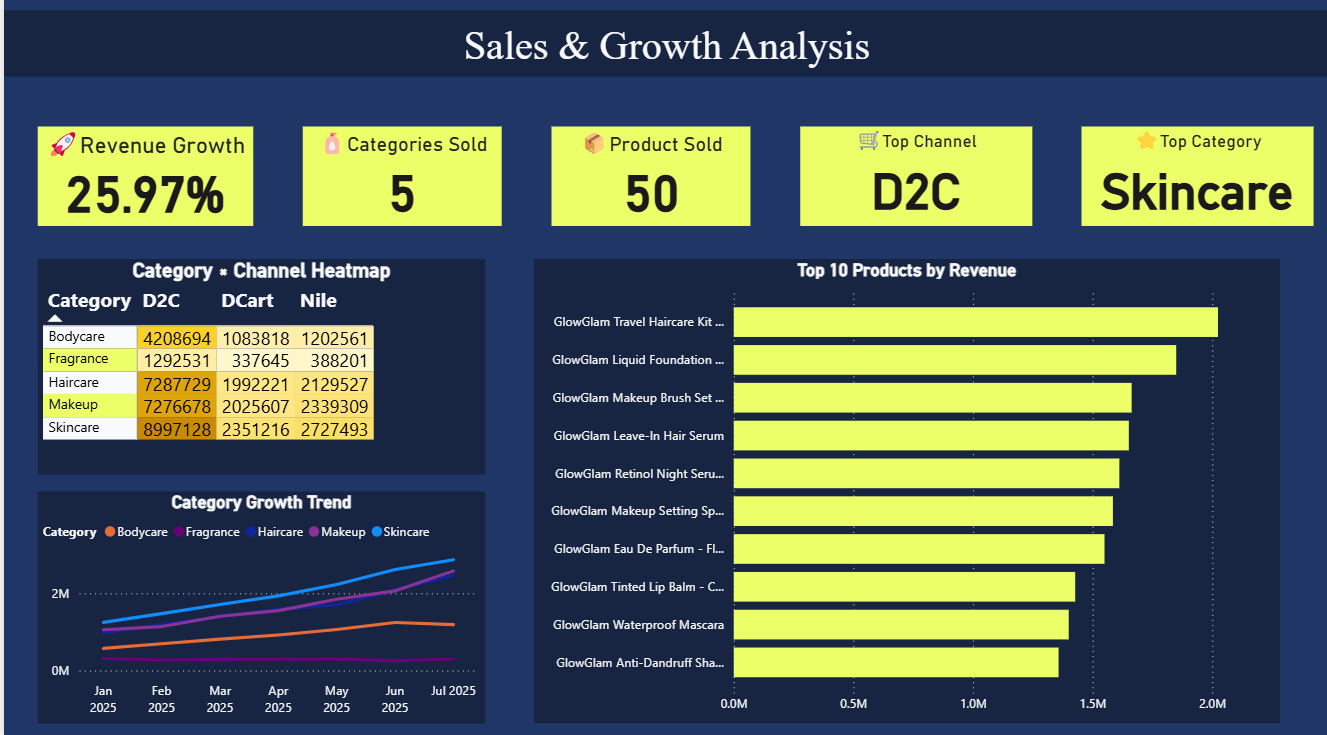

Layout of this report page (visuals, bound fields, positions):
{"tool":"powerbi","page":{"name":"Sales Growth Dashboard","canvas":[1280,720],"ordinal":1},"visuals":[{"type":"card","fields":{"Values":["KPI_Measures.Title 2"]},"box":[0,16,1280,64],"z":0},{"type":"card","title":"🧴Categories Sold","fields":{"Values":["KPI_Measures.Categories Sold"]},"box":[288,128,192,96],"z":1000},{"type":"card","title":"📦Product Sold","fields":{"Values":["KPI_Measures.Products Sold"]},"box":[528,128,192,96],"z":2000},{"type":"pivotTable","title":"Category × Channel Heatmap","fields":{"Rows":["Fact_All_Sales.Category"],"Columns":["Fact_All_Sales.Channel"],"Values":["Sum(Fact_All_Sales.Revenue)"]},"box":[32,256,432,208],"z":3000},{"type":"card","title":"🛒Top Channel","fields":{"Values":["KPI_Measures.Top Channel"]},"box":[768,128,224,96],"z":4000},{"type":"card","title":"⭐Top Category","fields":{"Values":["KPI_Measures.Top Category"]},"box":[1040,128,224,96],"z":5000},{"type":"lineChart","title":"Category Growth Trend","fields":{"Category":["Dim_Date.Month Year"],"Y":["KPI_Measures.Revenue"],"Series":["Fact_All_Sales.Category"]},"box":[32,480,432,224],"z":6000},{"type":"clusteredBarChart","title":"Top 10 Products by Revenue","fields":{"Category":["Dim_Product.Product_Name"],"Y":["KPI_Measures.Revenue"]},"box":[512,256,720,448],"z":7000},{"type":"card","title":"🚀Revenue Growth","fields":{"Values":["KPI_Measures.Revenue Growth %"]},"box":[32,128,208,96],"z":8000}]}

Visuals, with their boxes in screenshot pixels (x1, y1, x2, y2), scaled from the page's 1280x720 canvas onto the 1327x735 screenshot:
card - KPI_Measures.Title 2: locate(0, 16, 1326, 82)
"🧴Categories Sold" card: locate(299, 131, 498, 229)
"📦Product Sold" card: locate(547, 131, 746, 229)
"Category × Channel Heatmap" pivotTable: locate(33, 261, 481, 474)
"🛒Top Channel" card: locate(796, 131, 1028, 229)
"⭐Top Category" card: locate(1078, 131, 1310, 229)
"Category Growth Trend" lineChart: locate(33, 490, 481, 719)
"Top 10 Products by Revenue" clusteredBarChart: locate(531, 261, 1277, 719)
"🚀Revenue Growth" card: locate(33, 131, 249, 229)
